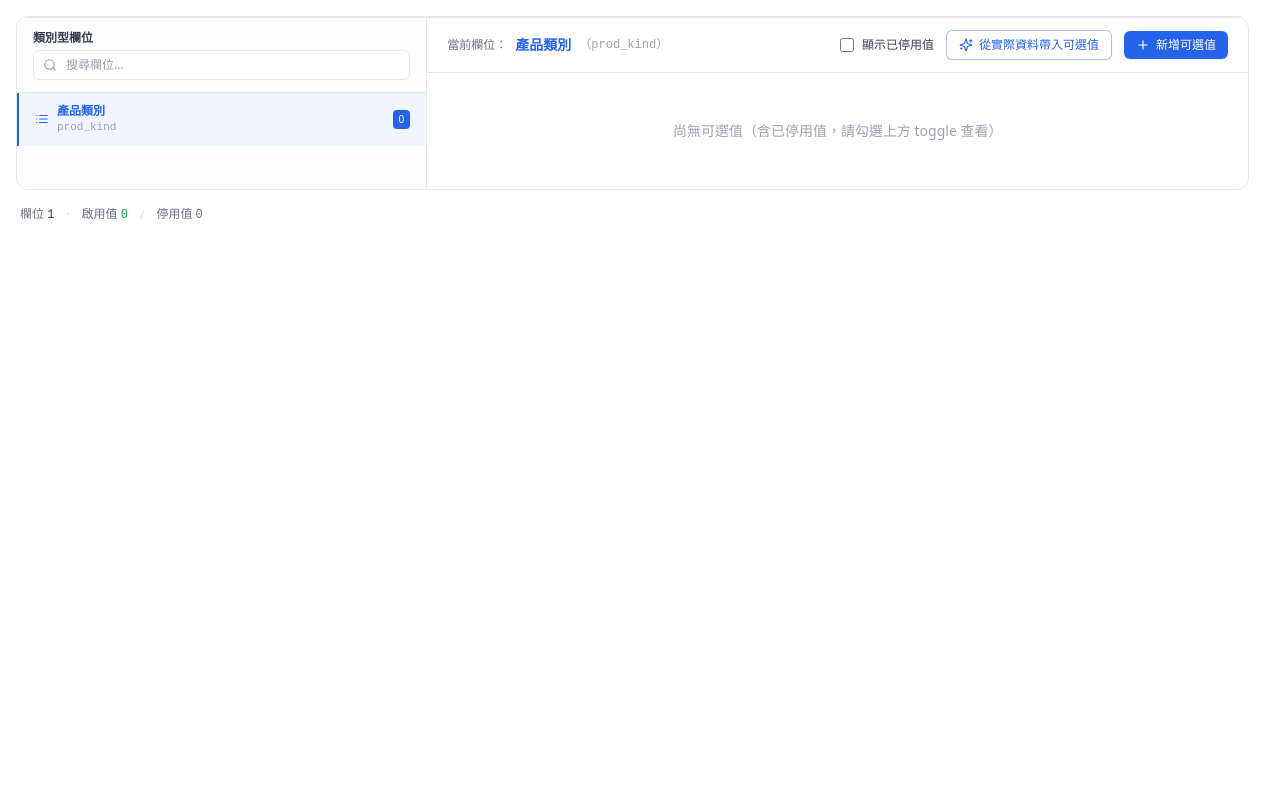
Test: F112 OptionsTab 進入點 2 — 批次帶入按鈕 + Modal（FE2） › FE2-004：點擊按鈕 → getDistinctValues → Modal 僅列 alreadyOption===false 候選、全選
Click the button with test id "btn-import-options-prod_kind": (1029, 45) [946,30,1112,60]
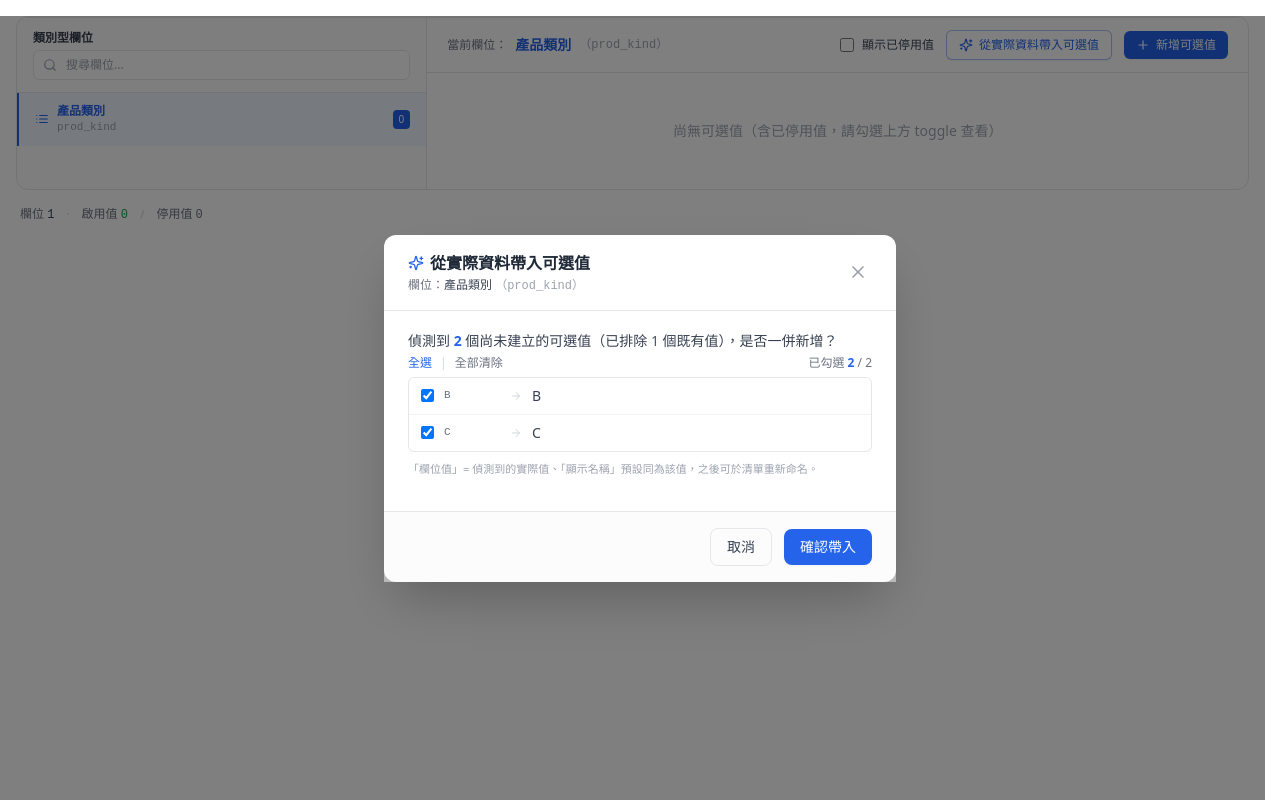
Expected: the element with test id "bi-ready" is shown, [408,330,872,477]
Expected: the checkbox with test id "bi-distinct-check-B" is checked, [421,389,434,402]
Expected: the checkbox with test id "bi-distinct-check-C" is checked, [421,426,434,439]
